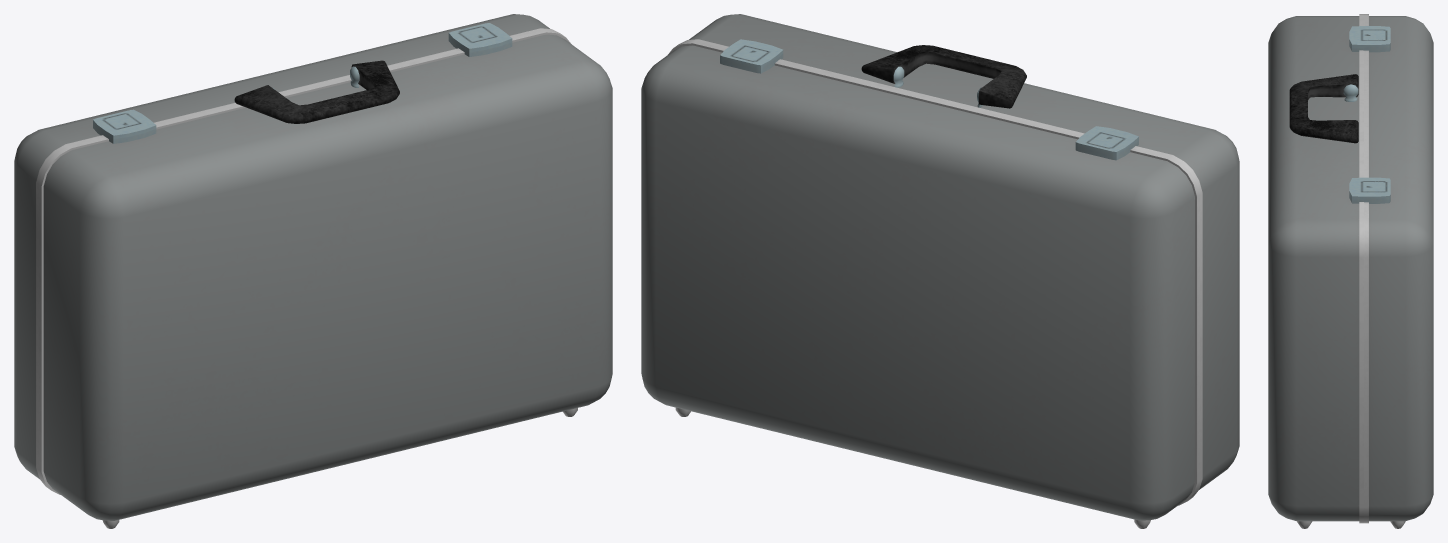
File: PolygraphCase.fbx
3 views of the same model, side by side, from view 1: azimuth 30°, elevation 25°; view 2: azimuth 150°, elevation 25°; view 3: azimuth 270°, elevation 25° (orthographic). The views are drawn at different scales.
Visible parts, largest first — view 1: PolygraphCase_LOD0; view 2: PolygraphCase_LOD0; view 3: PolygraphCase_LOD0.
Part boxes in pixels (<box>): PolygraphCase_LOD0: <box>14,14,612,528</box>; PolygraphCase_LOD0: <box>641,14,1239,528</box>; PolygraphCase_LOD0: <box>1268,14,1433,528</box>.
Size of what is drawn, in the model's own units: 53.74 by 36.07 by 16.51.
